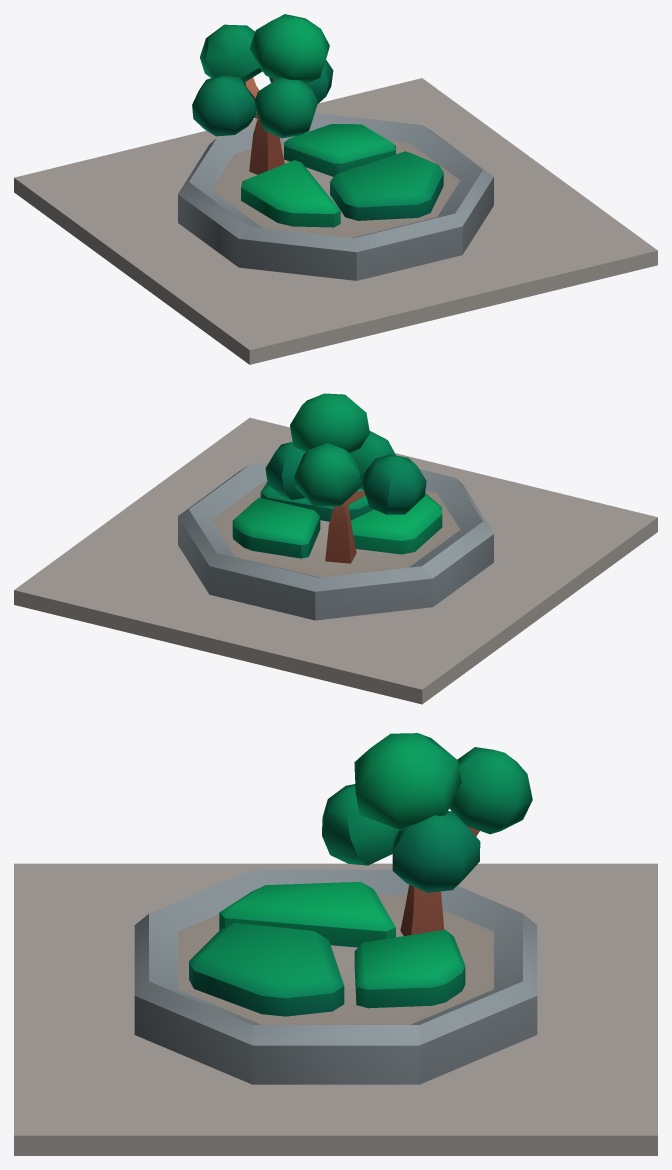
File: space_farm_small.glb
The picture shows the model from 3 angles, top to bottom: view 1: azimuth 30°, elevation 25°; view 2: azimuth 150°, elevation 25°; view 3: azimuth 270°, elevation 25°; orthographic projection. The views are drawn at different scales.
Parts seen in each view (by area): view 1: Spacefarm_Small; view 2: Spacefarm_Small; view 3: Spacefarm_Small.
Boxes of the visible parts, bbox=[...] form: Spacefarm_Small: bbox=[14, 14, 657, 364]; Spacefarm_Small: bbox=[14, 393, 657, 704]; Spacefarm_Small: bbox=[14, 733, 657, 1155].
Bounding box in the file's own units: 0.29 × 0.1324 × 0.29.
Materials: 1 (1 with a texture image).
